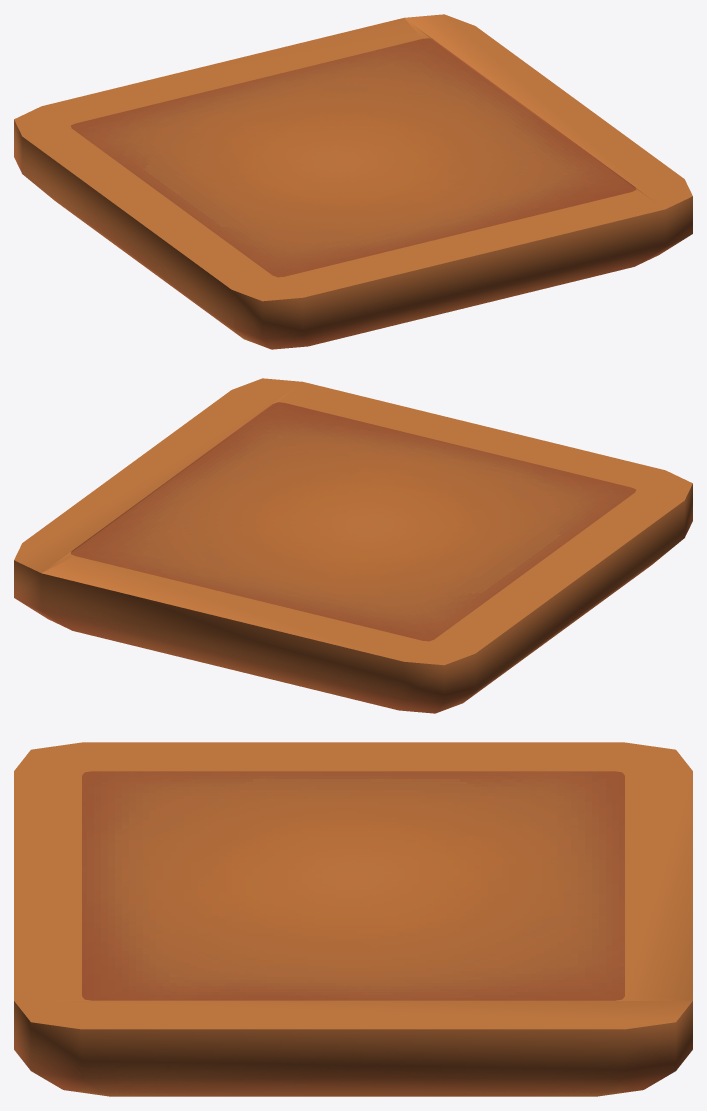
File: MovingBoarPlatform.gltf
3 views of the same model, one above another, from view 1: azimuth 30°, elevation 25°; view 2: azimuth 150°, elevation 25°; view 3: azimuth 270°, elevation 25° (orthographic). The views are drawn at different scales.
Visible parts, largest first — view 1: MovingBoarPlatform; view 2: MovingBoarPlatform; view 3: MovingBoarPlatform.
Part boxes in pixels (x1,y1,x2,y2): MovingBoarPlatform: (14, 14, 692, 349); MovingBoarPlatform: (14, 378, 692, 713); MovingBoarPlatform: (14, 742, 692, 1096).
Bounding box in the file's own units: 1.67 × 0.2208 × 1.67.
1 material, 1 textured.
